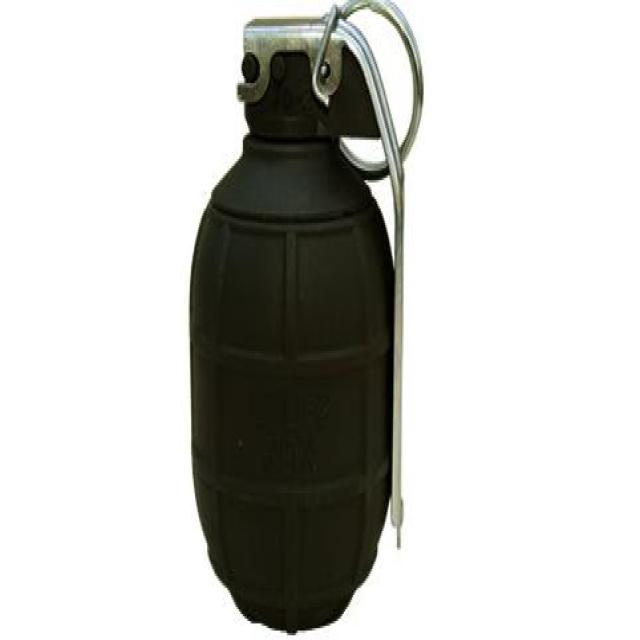grenade: (189, 1, 427, 636)
